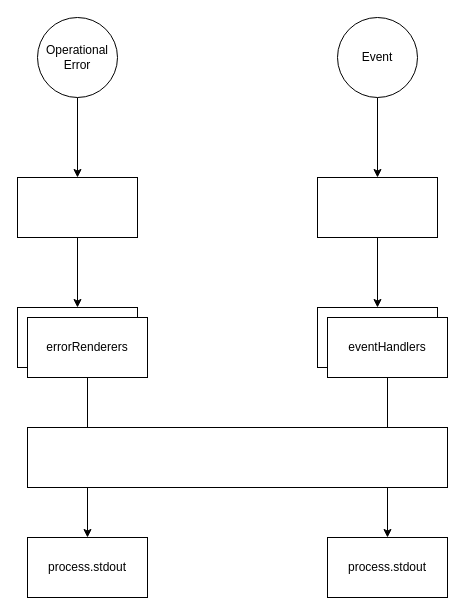
Some shapes in this 465 by 615 pixel diagram are drawn without their labels. The shapes that lost their labels are listed below. From the top down, each one's centre as x and y in pixels, then its label:
(x=77, y=207): error stream
(x=377, y=207): reporter
(x=237, y=457): CLI View Framework (currently server/src/log.ts)
